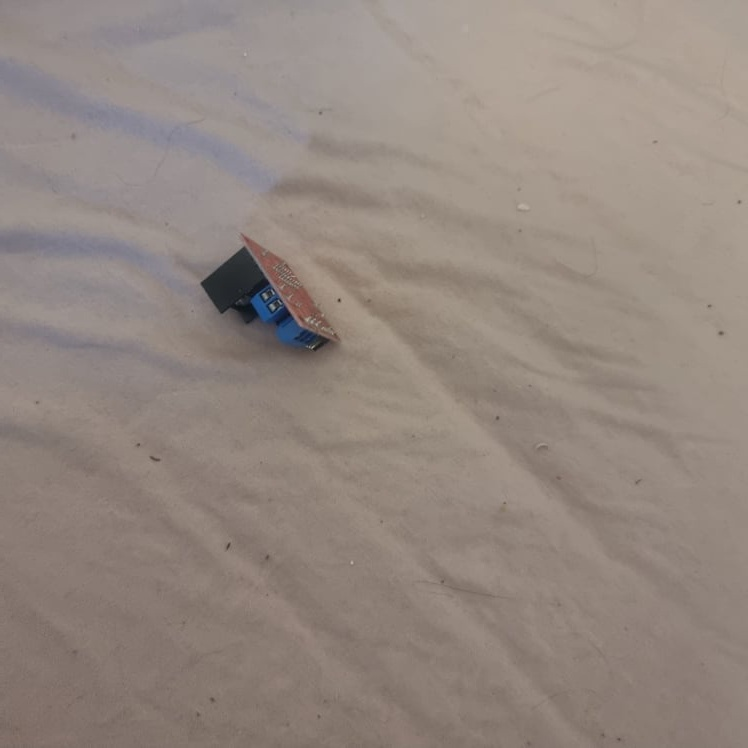MOTOR: (199, 235, 337, 356)
